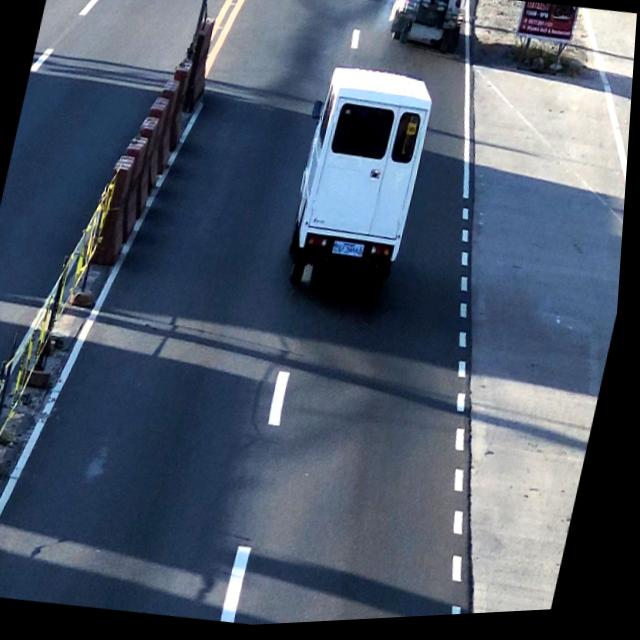Car: (282, 59, 443, 300)
Jeep: (391, 0, 468, 51)
License-Plate: (332, 242, 371, 268)
